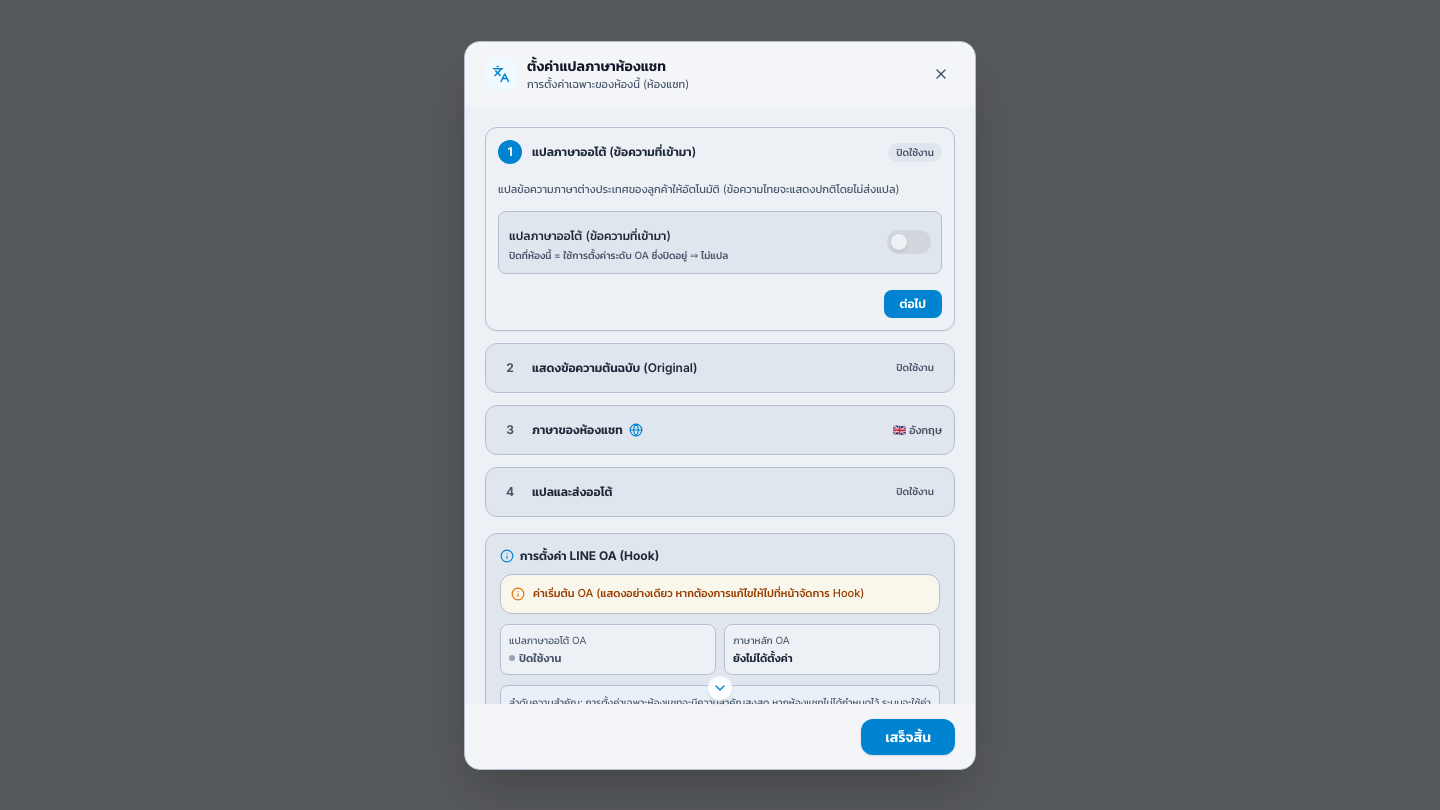
[SHOWORIGSRC] the "ตอนนี้" line states the resolved answer › ห้องยกให้ค่ากลาง · ค่ากลางปิด
Click the button with test id "room-wizard-step-2-btn" at (615, 367), box [486,344,954,392]
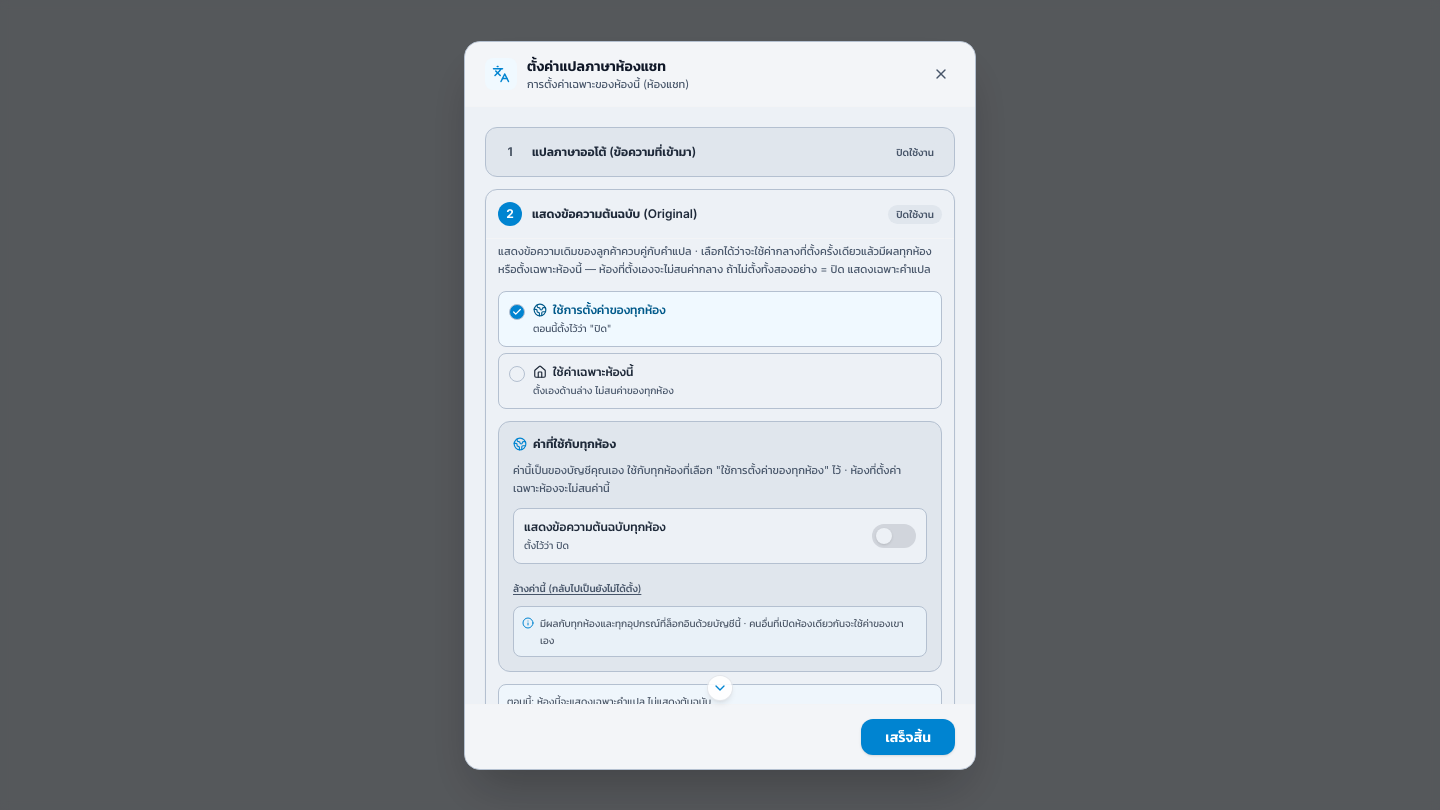
Result: the text with test id "room-modal-show-original-effective" shows "แสดงเฉพาะคำแปล" at [507,695,711,704]
